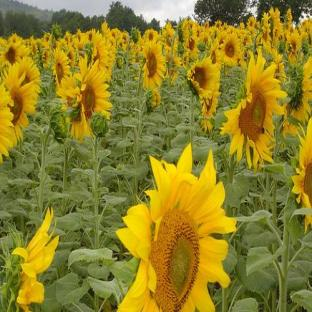sunflower: (115, 145, 236, 312), (220, 50, 288, 170)
